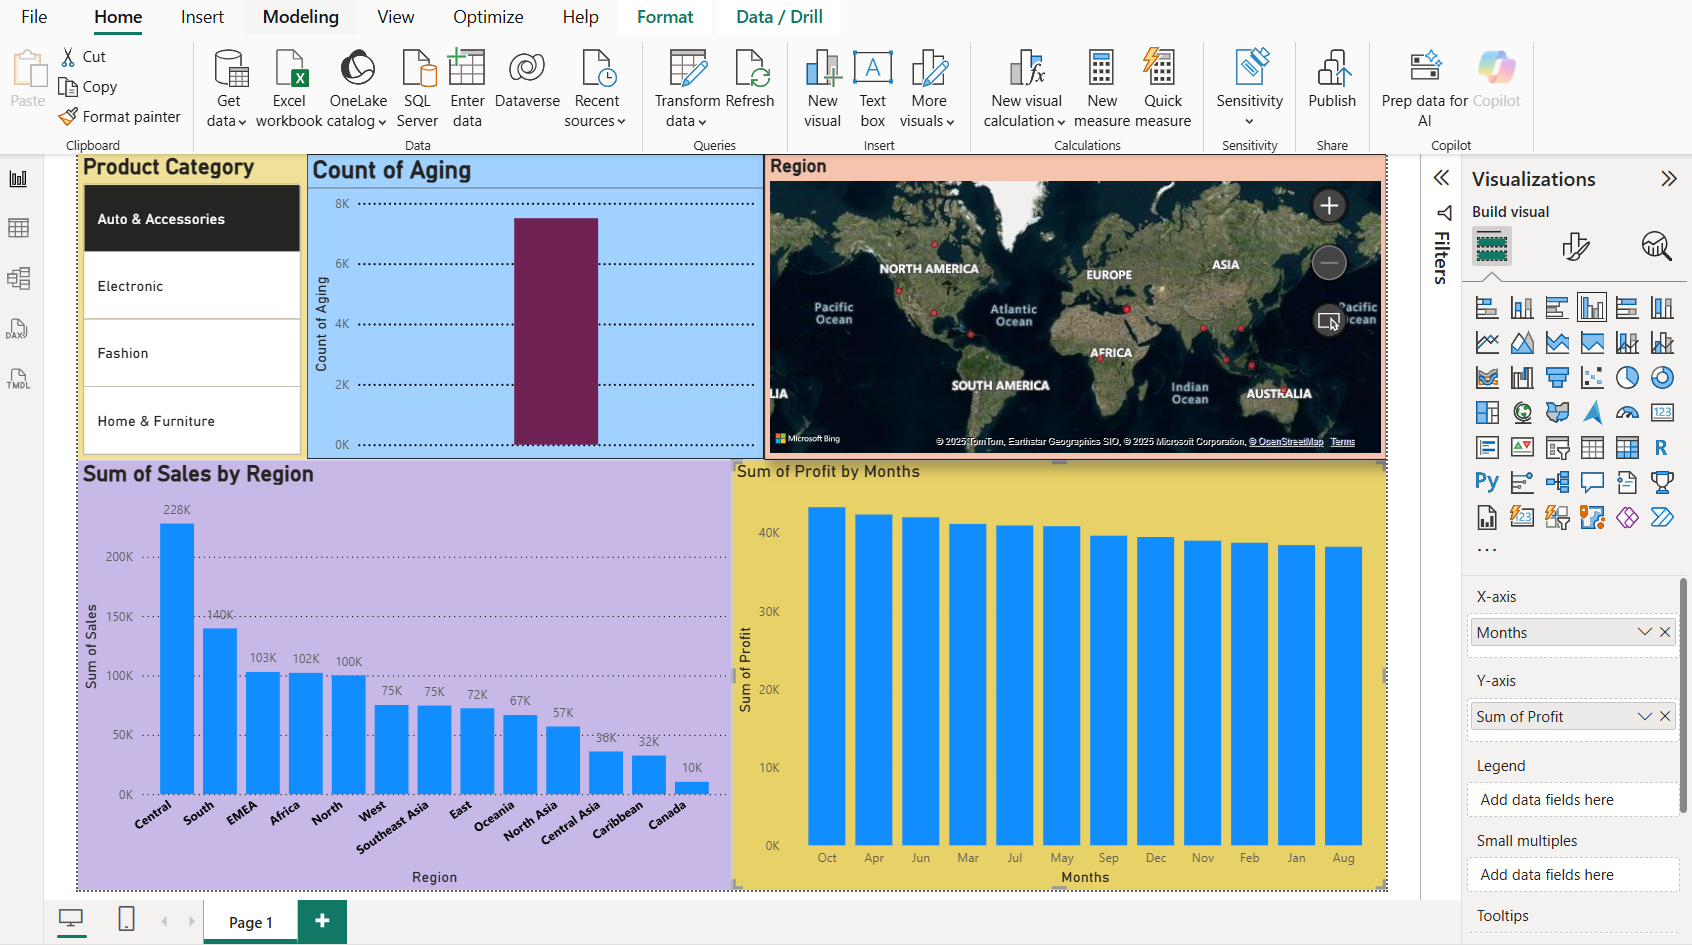

The dashboard page shown, as its layout file describes it:
{"tool":"powerbi","page":{"name":"Page 1","canvas":[1280,720],"ordinal":0},"visuals":[{"type":"clusteredColumnChart","fields":{"Y":["CountNonNull(Sheet1.Aging)"]},"box":[223.8,0,447.6,298.4],"z":0},{"type":"clusteredColumnChart","fields":{"Category":["Sheet1.Months"],"Y":["Sum(Sheet1.Profit)"]},"box":[639.5,299.6,640.8,420.7],"z":1000},{"type":"clusteredColumnChart","fields":{"Category":["Sheet1.Region"],"Y":["Sum(Sheet1.Sales)"]},"box":[0,299.6,639.5,420.7],"z":2000},{"type":"advancedSlicerVisual","fields":{"Values":["Sheet1.Product Category"]},"box":[0,0,223.8,299.6],"z":3000},{"type":"map","fields":{"Category":["Sheet1.Region"]},"box":[671,0,609,299],"z":3001}]}

Visuals, with their boxes on the page's 1280x720 design canvas (x1, y1, x2, y2). These are canvas units, not pixel positions in the 1692x945 screenshot, which may show the page scaled, cropped or inside an application window:
clusteredColumnChart - CountNonNull(Sheet1.Aging): [224, 0, 671, 298]
clusteredColumnChart - Sheet1.Months x Sum(Sheet1.Profit): [640, 300, 1280, 720]
clusteredColumnChart - Sheet1.Region x Sum(Sheet1.Sales): [0, 300, 640, 720]
advancedSlicerVisual - Sheet1.Product Category: [0, 0, 224, 300]
map - Sheet1.Region: [671, 0, 1280, 299]
